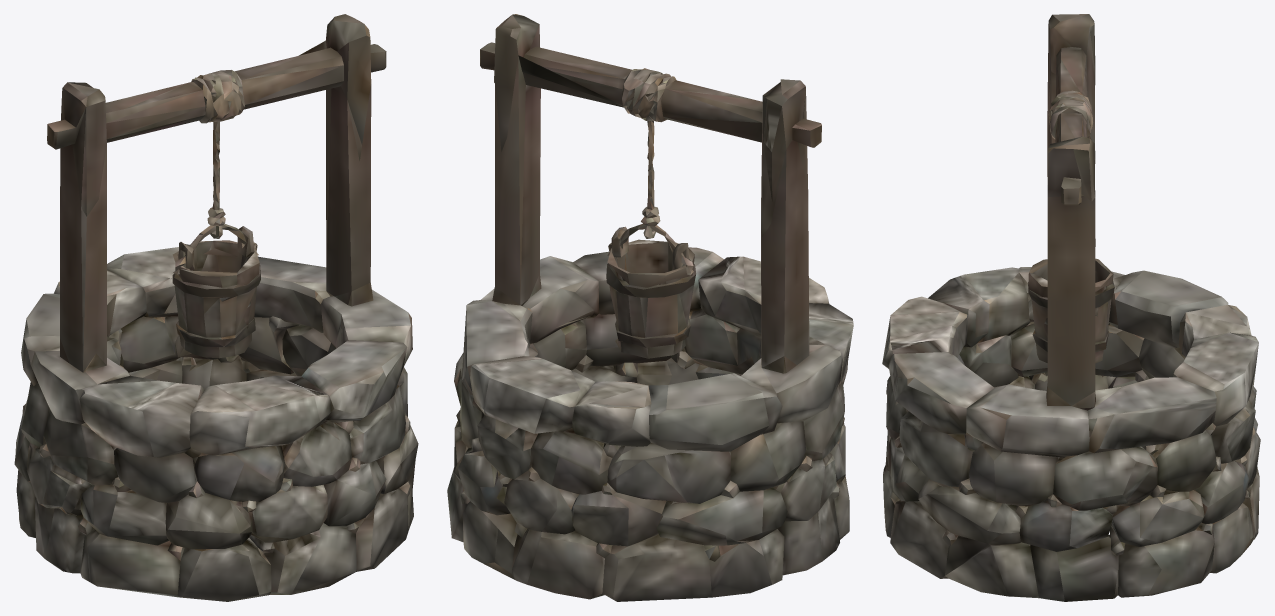
File: well.glb
The picture shows the model from 3 angles, left to right: view 1: azimuth 30°, elevation 25°; view 2: azimuth 150°, elevation 25°; view 3: azimuth 270°, elevation 25°; orthographic projection. The views are drawn at different scales.
Size of the model in its own units: 1.46 by 1.89 by 1.46.
Materials: 1 (1 with a texture image).
